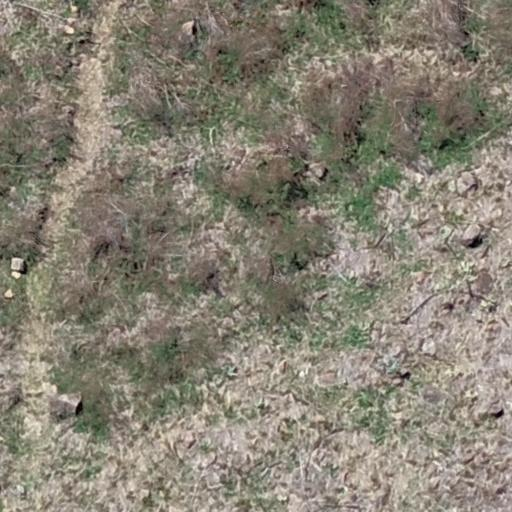stone: (48, 393, 84, 417), (202, 271, 226, 299), (461, 223, 483, 247), (178, 20, 198, 46), (305, 161, 329, 181), (460, 173, 479, 195), (11, 259, 30, 275)
